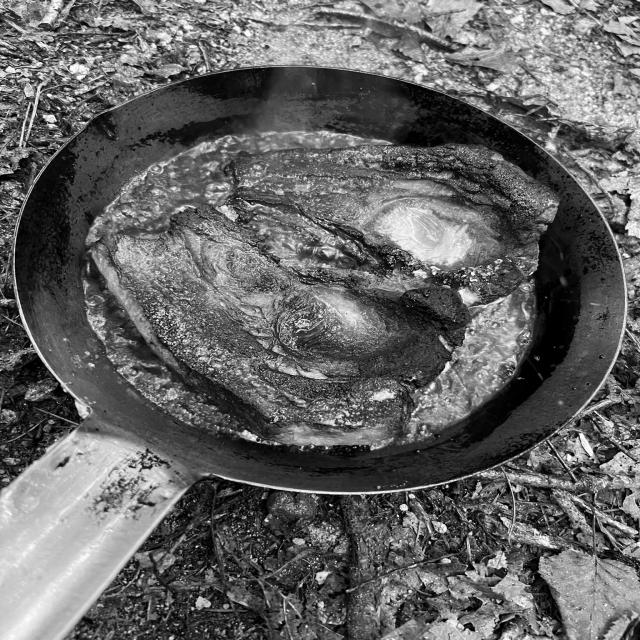overcooked pork: (72, 194, 463, 449), (230, 138, 566, 309)
